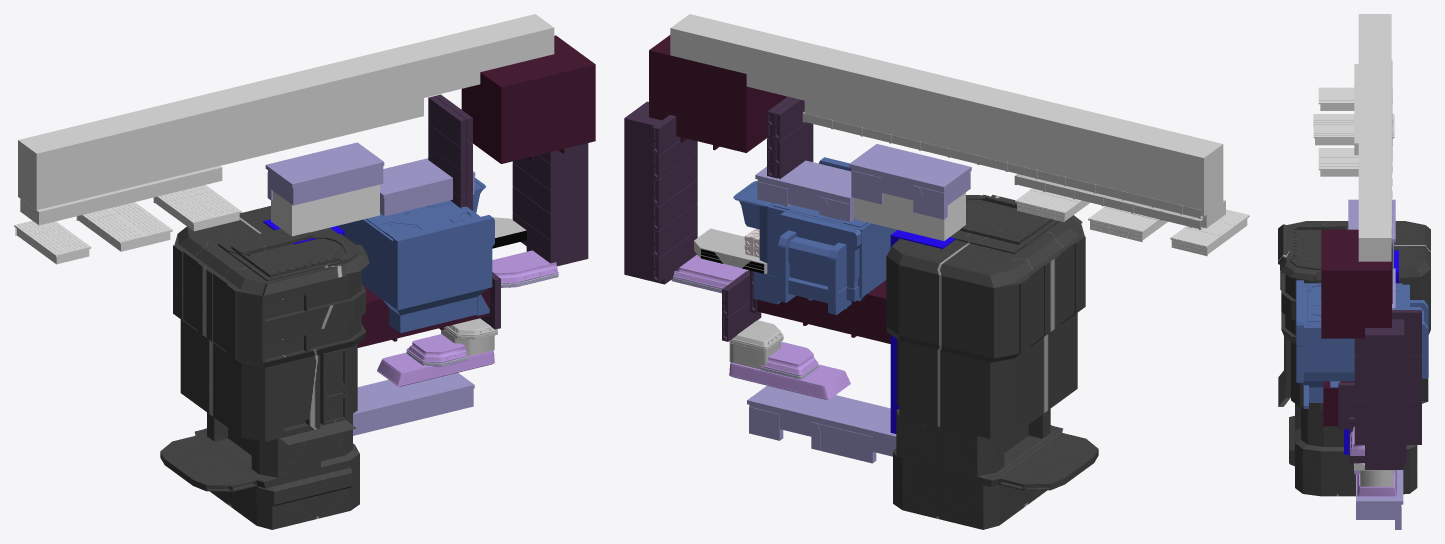
The model's file is lab.fbx.
3 views of the same model, side by side, from view 1: azimuth 30°, elevation 25°; view 2: azimuth 150°, elevation 25°; view 3: azimuth 270°, elevation 25° (orthographic). The views are drawn at different scales.
Parts seen in each view (by area): view 1: Cube_263, Cube__6_.001, Cube_144, Cube_011_001__1_, Cube_366, Cube__45_, _1__2_, _1, Cube.001, Cube__46_, _1__1_, Cube_4279 (+11 smaller); view 2: Cube_263, Cube__6_.001, Cube_144, Cube_366, Cube_011_001__1_, Cube__45_, _1__2_, Cube_4250, _1, _1__1_, Cube_011_001, Cube.001 (+12 smaller); view 3: Cube_263, Cube_366, Cube_011_001__1_, Cube__6_.001, Cube_144, Cube__45_, Cube_4279, _1, Cube_4275, Cube_4415, Cube_367__1_, Cube_011_001 (+8 smaller).
Part boxes in pixels (x1,y1,x2,y2): Cube_263: (160, 206, 369, 529); Cube__6_.001: (18, 45, 423, 209); Cube_144: (337, 177, 494, 333); Cube_011_001__1_: (461, 35, 595, 163); Cube_366: (512, 143, 588, 266); Cube__45_: (406, 14, 554, 97); _1__2_: (265, 142, 384, 205); _1: (358, 373, 474, 428); Cube.001: (271, 184, 379, 236); Cube__46_: (20, 165, 222, 225); _1__1_: (380, 158, 475, 216); Cube_4279: (76, 202, 172, 251); Cube_263: (886, 194, 1098, 529); Cube__6_.001: (804, 46, 1223, 216); Cube_144: (733, 157, 897, 315); Cube_366: (624, 101, 697, 284); Cube_011_001__1_: (649, 35, 787, 152); Cube__45_: (670, 14, 823, 100); _1__2_: (849, 144, 971, 219); Cube_4250: (802, 111, 1203, 229); _1: (747, 385, 866, 455); _1__1_: (755, 160, 853, 221); Cube_011_001: (757, 280, 890, 343); Cube.001: (853, 192, 965, 240); Cube_263: (1278, 221, 1430, 496); Cube_366: (1354, 310, 1421, 469); Cube_011_001__1_: (1321, 229, 1391, 338); Cube__6_.001: (1358, 14, 1391, 181); Cube_144: (1296, 280, 1428, 408); Cube__45_: (1358, 181, 1391, 261); Cube_4279: (1313, 114, 1394, 145); _1: (1356, 470, 1403, 529); Cube_4275: (1318, 148, 1392, 176); Cube_4415: (1318, 87, 1392, 110); Cube_367__1_: (1338, 382, 1354, 429); Cube_011_001: (1323, 381, 1354, 426).
Size of the model in its own units: 17198 by 11738 by 4601.
